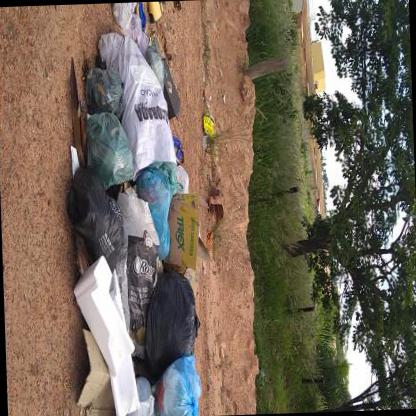lixo: (79, 34, 208, 415)
